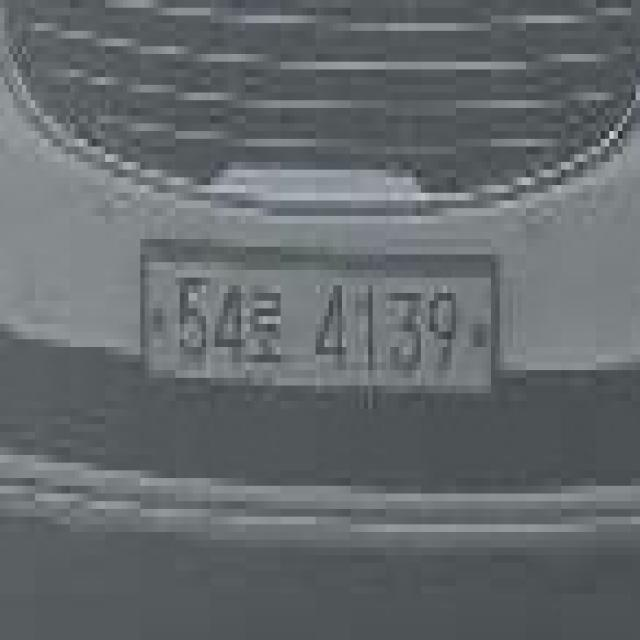1: (355, 247, 381, 401)
3: (386, 270, 416, 393)
4: (215, 254, 250, 386), (312, 255, 346, 370)
5: (171, 247, 210, 378)
9: (425, 262, 460, 401)
license_plate: (118, 224, 500, 408)
lo: (237, 278, 289, 362)
